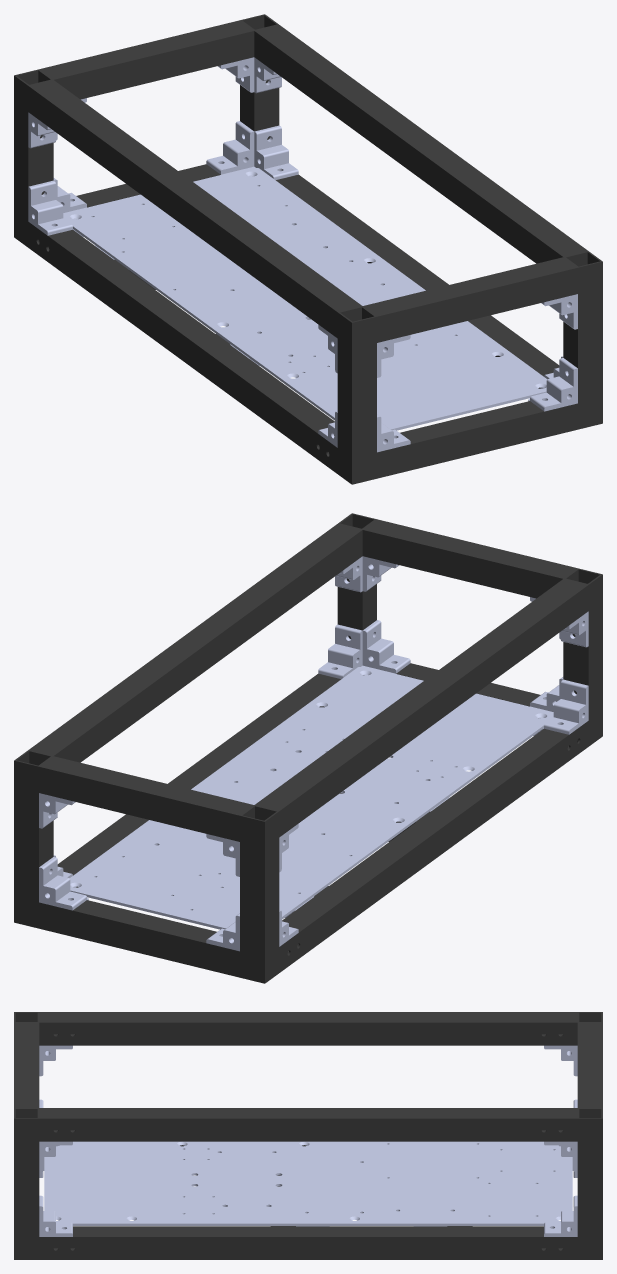
File: chassis-3030.glb
3 renders of one model, top to bottom at view 1: azimuth 30°, elevation 25°; view 2: azimuth 150°, elevation 25°; view 3: azimuth 270°, elevation 25°, orthographic. The views are drawn at different scales.
Visible parts, largest first — view 1: 3030_Chassis, customplatefor3030-1, 3030_640mm_Sqtube-3, 3030_640mm_Sqtube-5, 3030_240mm_Sqtube-3, 3030_640mm_Sqtube-1, 3030_185mm_Sqtube-3, 3030_185mm_Sqtube-4, 3030_Bracket-14, 3030_Bracket-3, 3030_240mm_Sqtube-2, 3030_Bracket-9 (+1 smaller); view 2: customplatefor3030-1, 3030_Chassis, 3030_640mm_Sqtube-3, 3030_640mm_Sqtube-5, 3030_240mm_Sqtube-3, 3030_240mm_Sqtube-2, 3030_185mm_Sqtube-3, 3030_640mm_Sqtube-1, 3030_185mm_Sqtube-4, 3030_Bracket-17, 3030_Bracket-3, 3030_Bracket-9 (+2 smaller); view 3: customplatefor3030-1, 3030_Chassis, 3030_640mm_Sqtube-3, 3030_640mm_Sqtube-1, 3030_185mm_Sqtube-4, 3030_240mm_Sqtube-3, 3030_Bracket-14, 3030_Bracket-19, 3030_Bracket-20.
Part boxes in pixels (x1=…): 3030_Chassis: x1=28, y1=20, x2=602, y2=484; customplatefor3030-1: x1=63, y1=167, x2=547, y2=430; 3030_640mm_Sqtube-3: x1=28, y1=80, x2=362, y2=338; 3030_640mm_Sqtube-5: x1=28, y1=222, x2=337, y2=473; 3030_240mm_Sqtube-3: x1=363, y1=257, x2=577, y2=342; 3030_640mm_Sqtube-1: x1=276, y1=174, x2=559, y2=388; 3030_185mm_Sqtube-3: x1=14, y1=69, x2=53, y2=247; 3030_185mm_Sqtube-4: x1=240, y1=14, x2=279, y2=139; 3030_Bracket-14: x1=254, y1=125, x2=298, y2=180; 3030_Bracket-3: x1=530, y1=358, x2=577, y2=411; 3030_240mm_Sqtube-2: x1=76, y1=164, x2=220, y2=207; 3030_Bracket-9: x1=217, y1=57, x2=254, y2=92; customplatefor3030-1: x1=69, y1=666, x2=553, y2=929; 3030_Chassis: x1=29, y1=513, x2=602, y2=946; 3030_640mm_Sqtube-3: x1=254, y1=579, x2=588, y2=837; 3030_640mm_Sqtube-5: x1=279, y1=721, x2=588, y2=972; 3030_240mm_Sqtube-3: x1=362, y1=519, x2=577, y2=598; 3030_240mm_Sqtube-2: x1=39, y1=900, x2=239, y2=977; 3030_185mm_Sqtube-3: x1=240, y1=805, x2=279, y2=983; 3030_640mm_Sqtube-1: x1=57, y1=673, x2=340, y2=887; 3030_185mm_Sqtube-4: x1=14, y1=750, x2=53, y2=928; 3030_Bracket-17: x1=544, y1=679, x2=588, y2=734; 3030_Bracket-3: x1=362, y1=620, x2=410, y2=673; 3030_Bracket-9: x1=39, y1=793, x2=75, y2=828; customplatefor3030-1: x1=44, y1=1141, x2=572, y2=1225; 3030_Chassis: x1=14, y1=1012, x2=602, y2=1259; 3030_640mm_Sqtube-3: x1=39, y1=1012, x2=577, y2=1045; 3030_640mm_Sqtube-1: x1=39, y1=1226, x2=577, y2=1259; 3030_185mm_Sqtube-4: x1=577, y1=1108, x2=602, y2=1259; 3030_240mm_Sqtube-3: x1=14, y1=1022, x2=39, y2=1107; 3030_Bracket-14: x1=544, y1=1195, x2=577, y2=1236; 3030_Bracket-19: x1=39, y1=1045, x2=72, y2=1076; 3030_Bracket-20: x1=544, y1=1045, x2=577, y2=1076.
Size of the model in its own units: 0.3 by 0.185 by 0.7.
